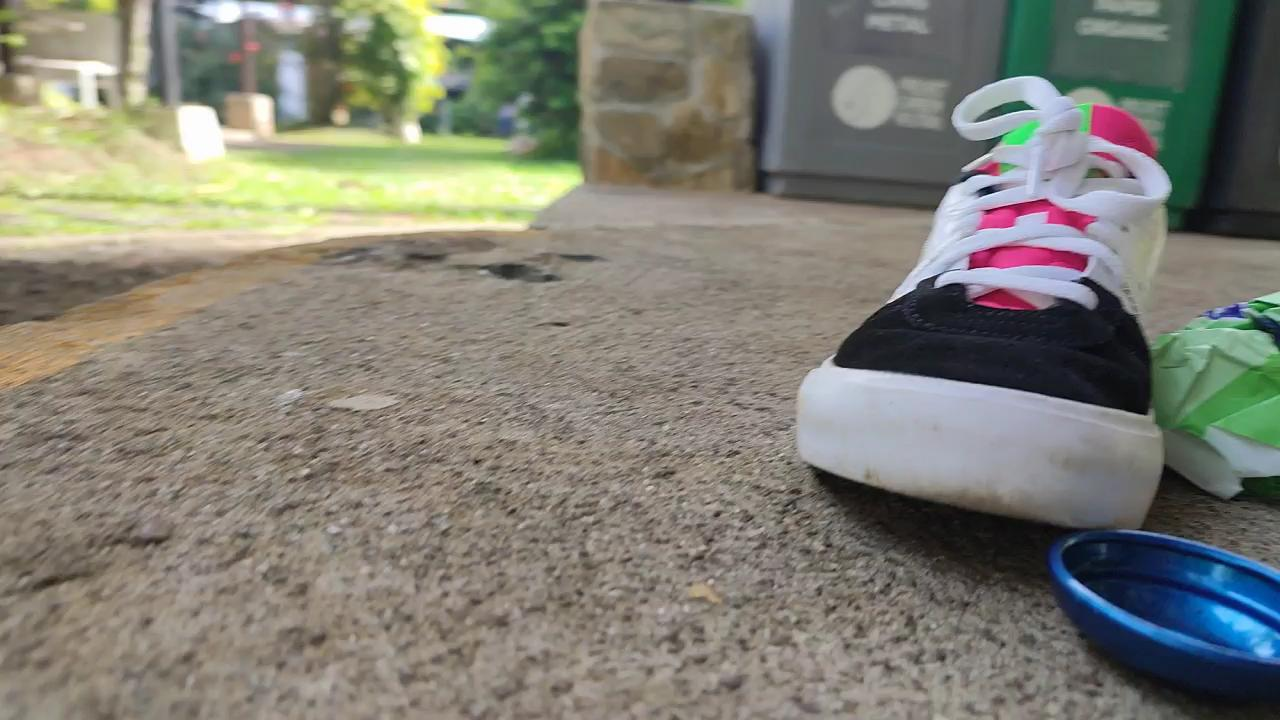Paper: (1141, 261, 1280, 508)
